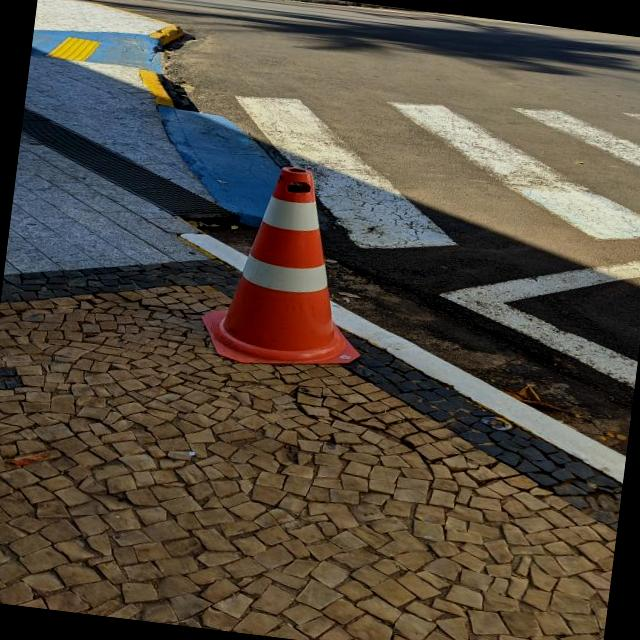Cone: (188, 153, 388, 380)
